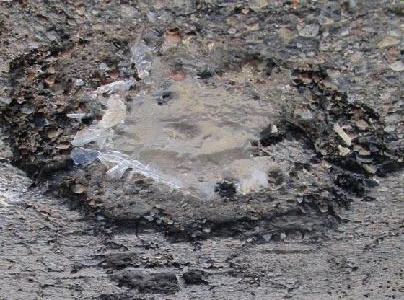pothole: (0, 24, 402, 247), (89, 242, 209, 299)
